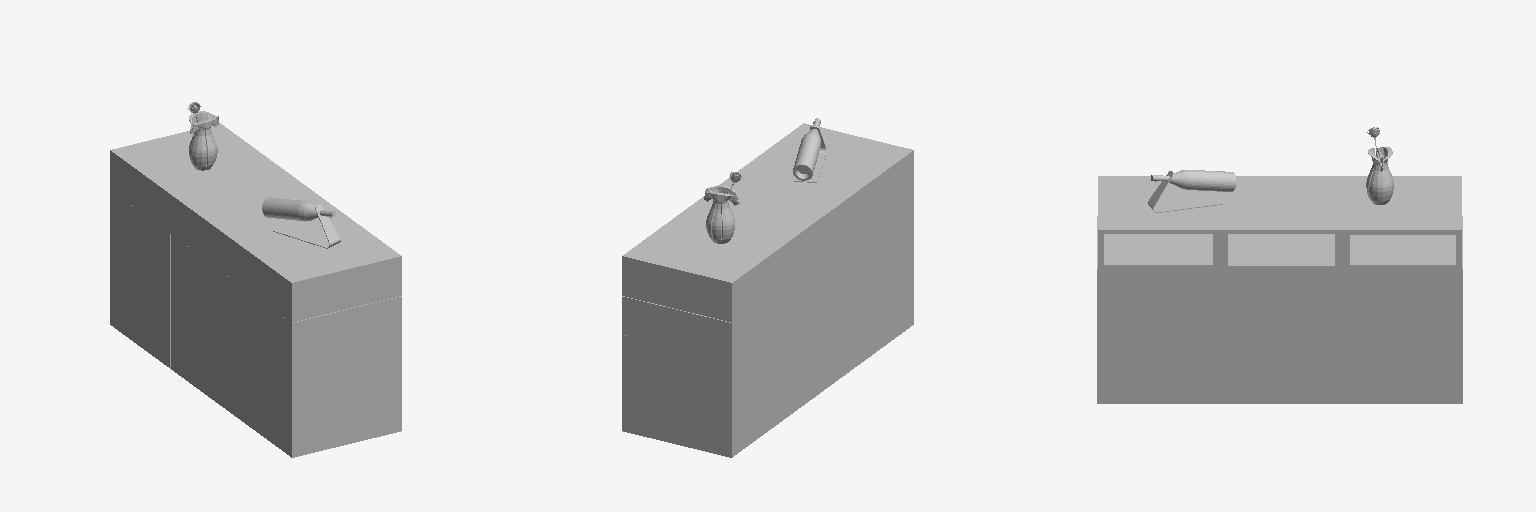
File: sideTable.obj
3 renders of one model, left to right at view 1: azimuth 30°, elevation 25°; view 2: azimuth 150°, elevation 25°; view 3: azimuth 270°, elevation 25°, orthographic.
Parts seen in each view (by area): view 1: pCube1; view 2: pCube1; view 3: pCube1.
Boxes of the visible parts, x1=… form: pCube1: x1=110, y1=102, x2=401, y2=457; pCube1: x1=622, y1=118, x2=913, y2=457; pCube1: x1=1097, y1=127, x2=1462, y2=403.
Size of the model in its own units: 0.4373 by 0.9222 by 1.25.